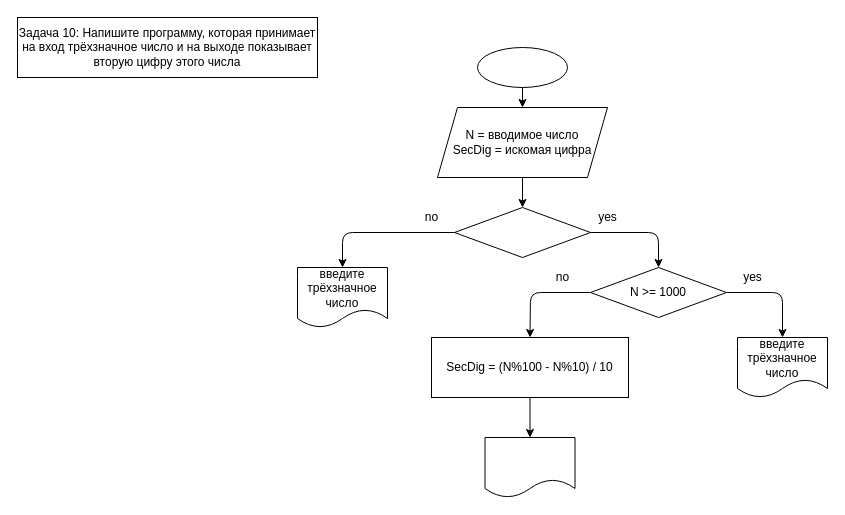
This 845x515 diagram has some shape labels left out. The shapes that lost their labels are listed below. From the top down, each one's centre as x and y in pixels, then its label:
At pixel 522 67: "start".
At pixel 522 232: "N >= 100".
At pixel 529 467: "SecDig".
